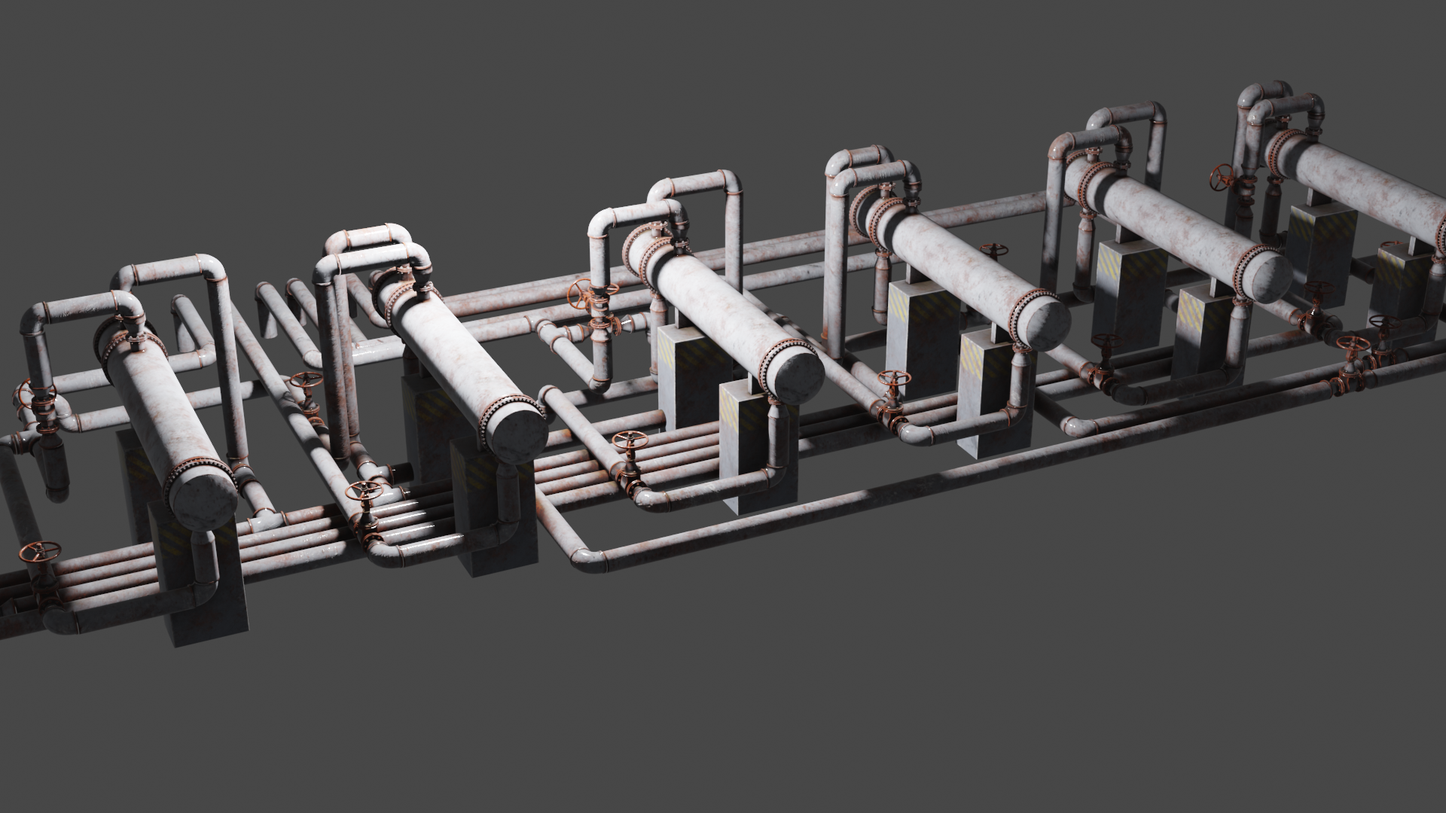HE_1: (1260, 117, 1446, 254)
HE_2: (1061, 144, 1291, 302)
HE_3: (849, 185, 1073, 347)
HE_4: (620, 221, 824, 403)
HE_5: (370, 267, 553, 460)
HE_6: (90, 313, 239, 536)
